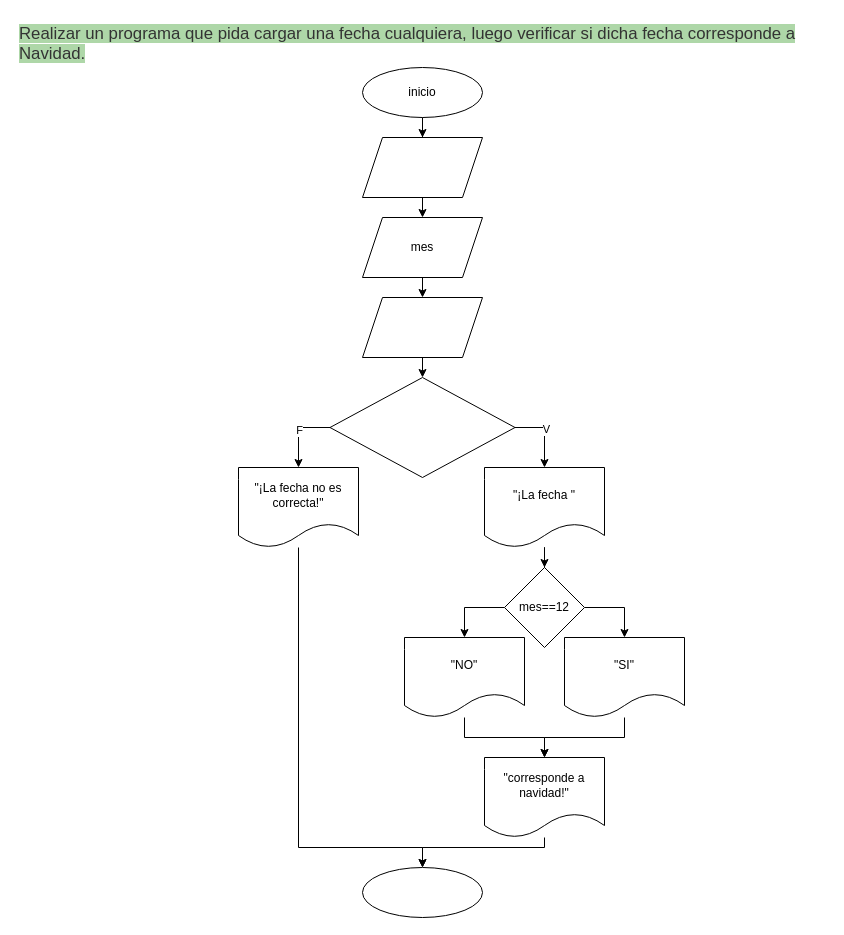
The diagram is 844 pixels wide and 935 high, and some of its shapes have lost their labels. Here are the shapes that lost their labels. From the top down, the centre of each, then its label:
(x=422, y=167): dia
(x=422, y=327): anio
(x=422, y=427): dia>0 y dia<32 and mes>0 and mes<13 and anio>0
(x=422, y=892): fin
